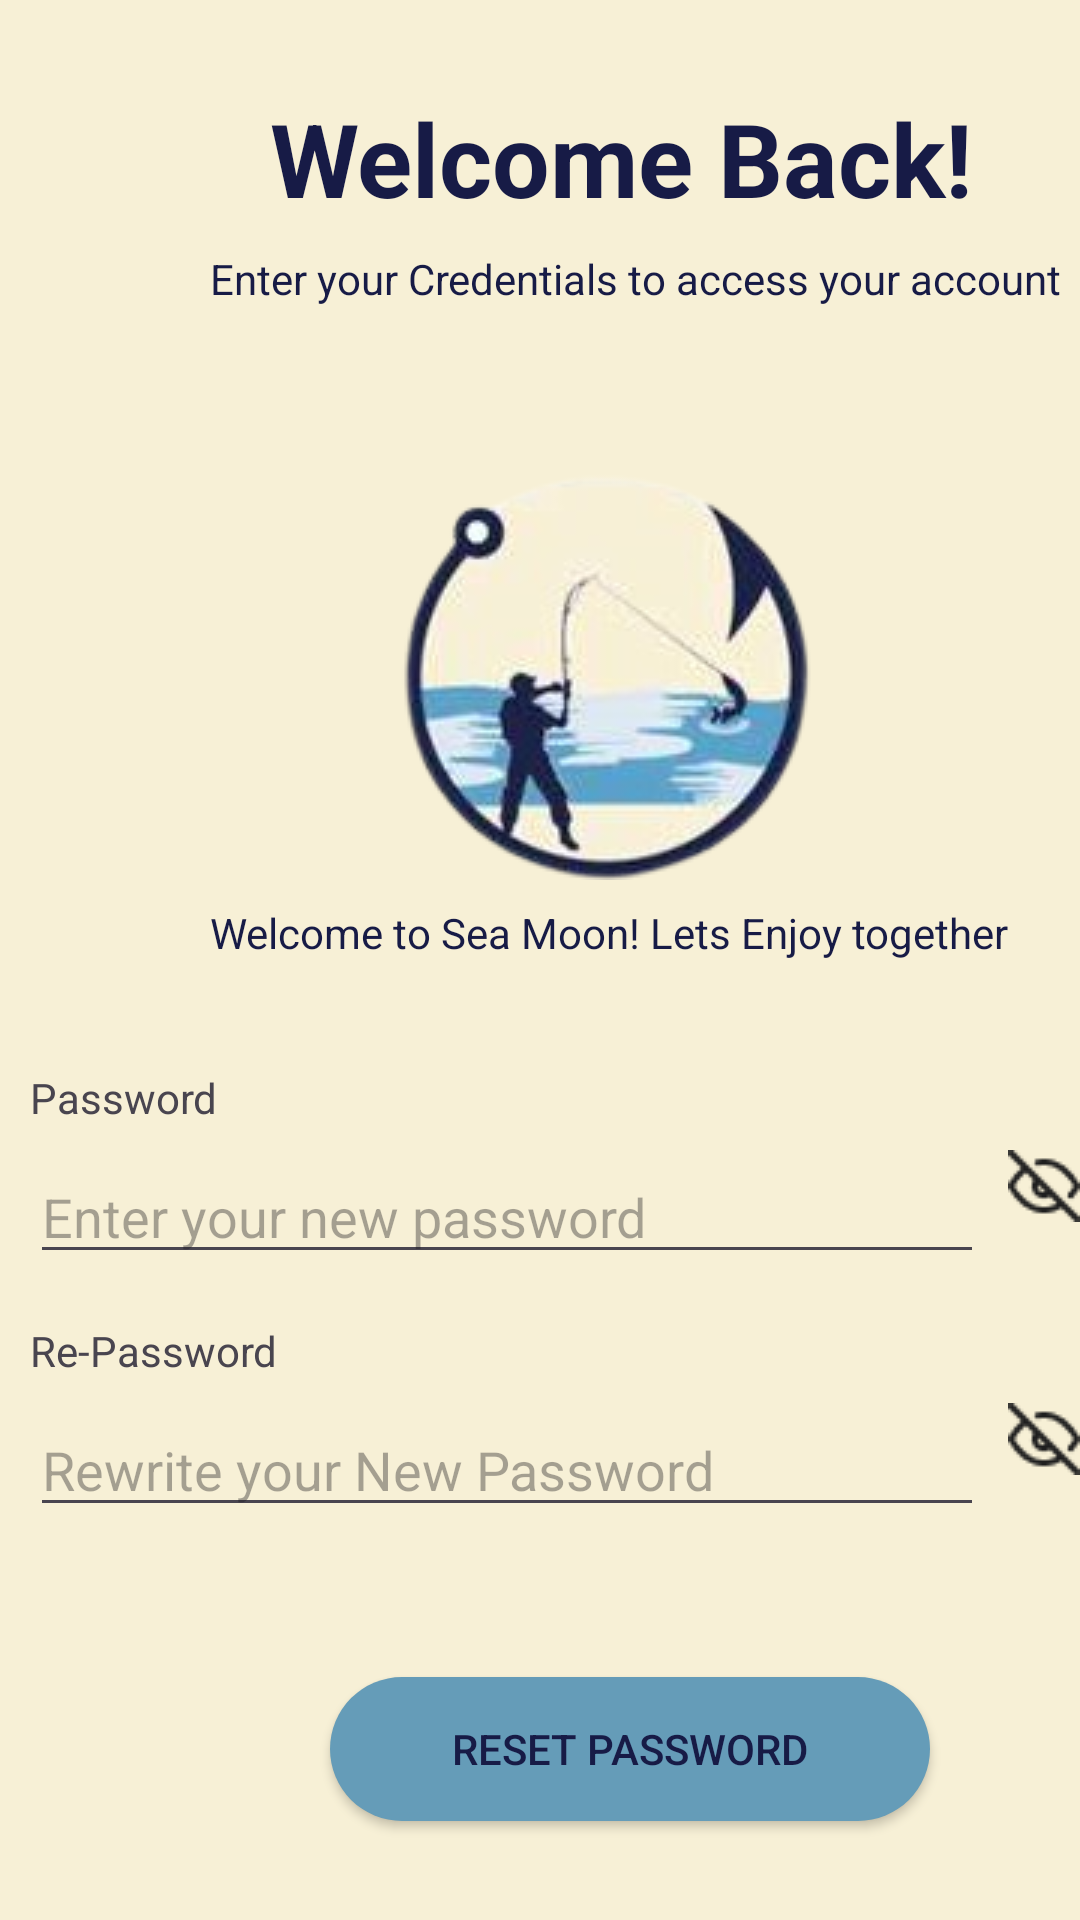

Icons on this 1080×1920 Android screen, each with its box as (x1, y1, x2, y2):
eyepassword: (1008, 1150, 1080, 1222), (1008, 1403, 1080, 1475)
